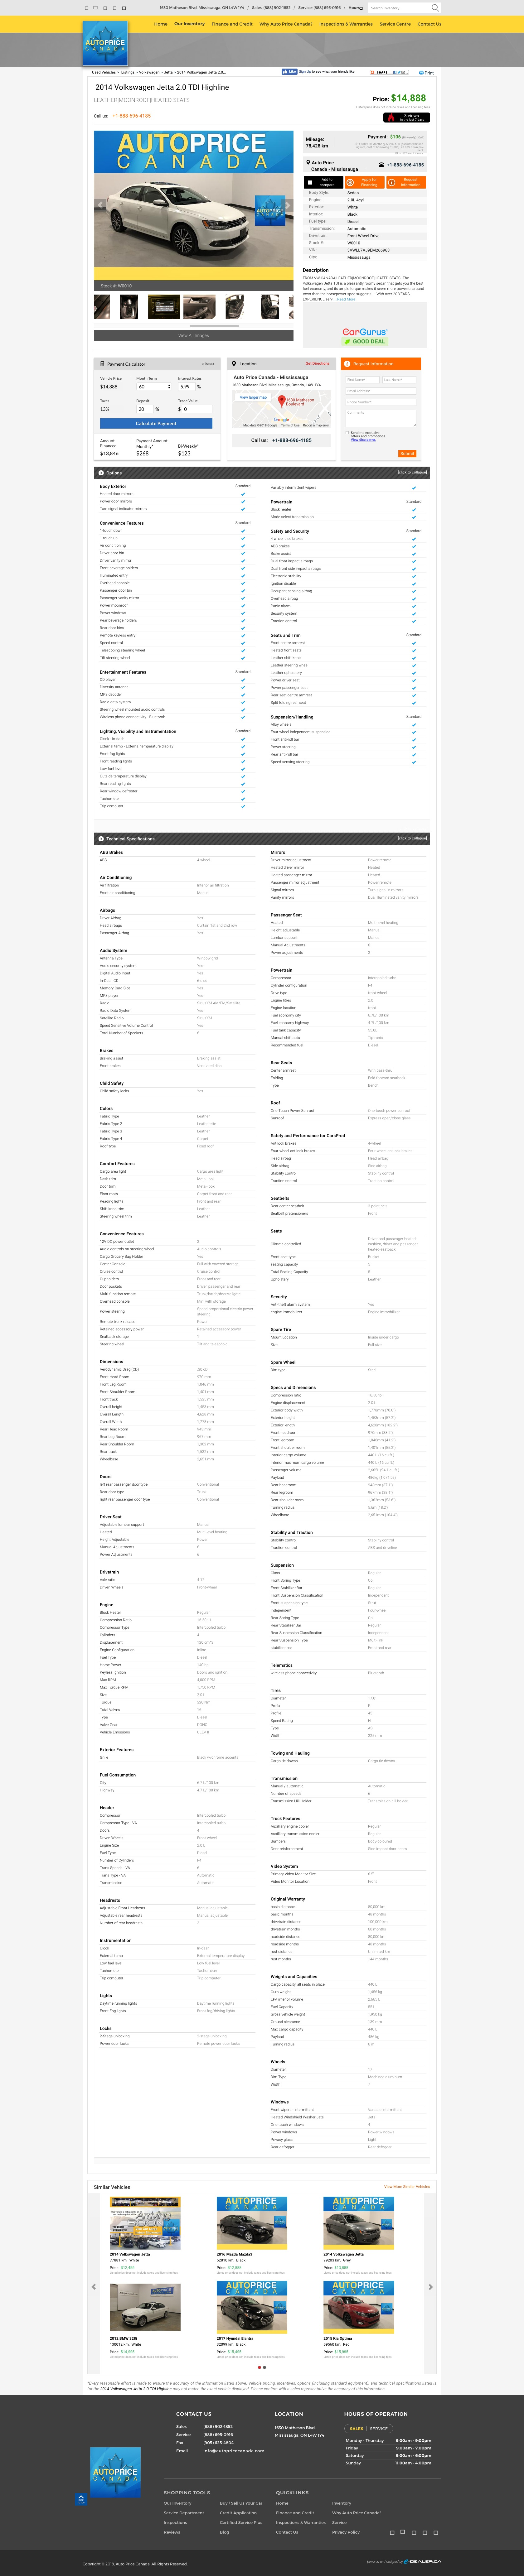car: (281, 199, 294, 214)
